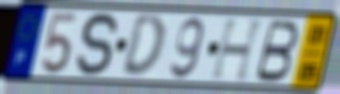5: (38, 10, 80, 76)
9: (168, 15, 205, 82)
B: (252, 18, 301, 85)
D: (119, 13, 167, 81)
H: (208, 18, 267, 84)
S: (74, 10, 121, 79)
